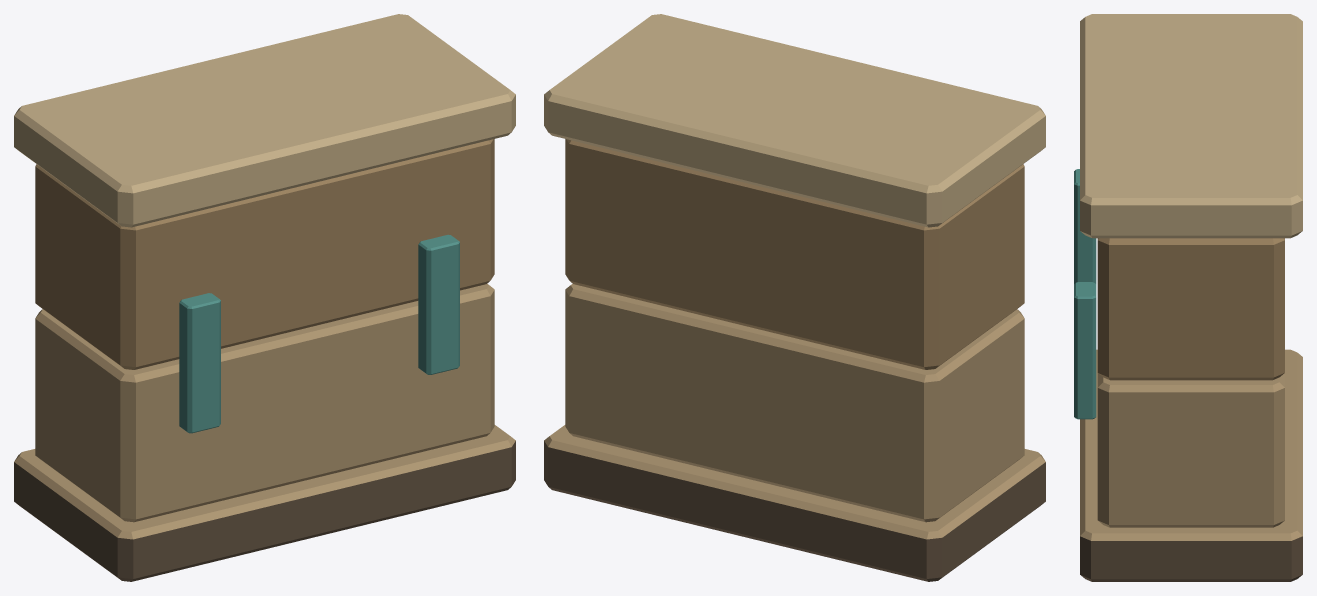
File: wall-short.glb
The picture shows the model from 3 angles, left to right: view 1: azimuth 30°, elevation 25°; view 2: azimuth 150°, elevation 25°; view 3: azimuth 270°, elevation 25°; orthographic projection. The views are drawn at different scales.
Visible parts, largest first — view 1: wall-short__body; view 2: wall-short__body; view 3: wall-short__body.
Part boxes in pixels (box(x1,y1,x2,y2)): wall-short__body: box(14, 14, 515, 581); wall-short__body: box(544, 14, 1045, 581); wall-short__body: box(1074, 14, 1302, 581).
Bounding box in the file's own units: 1 × 0.95 × 0.513.
